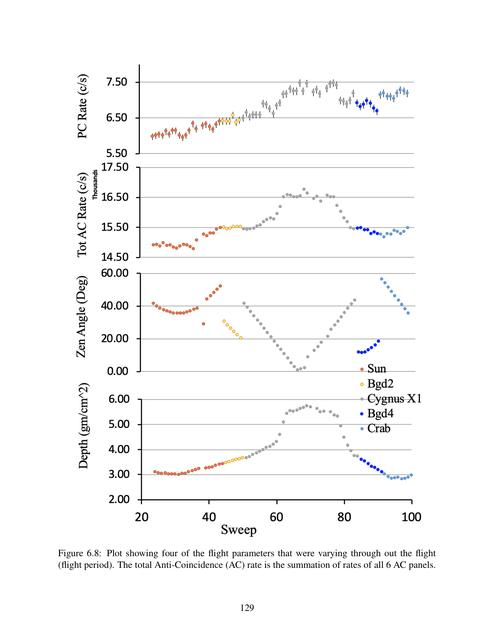box: (73, 61, 423, 537)
